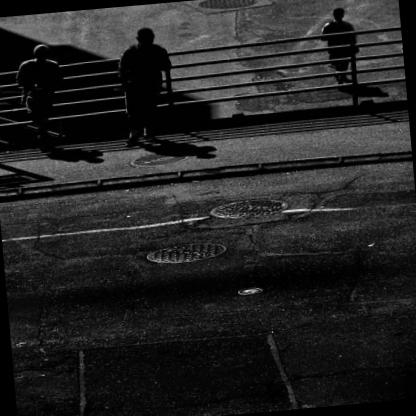manholes: (190, 182, 298, 234), (135, 226, 238, 275), (122, 140, 198, 180)
